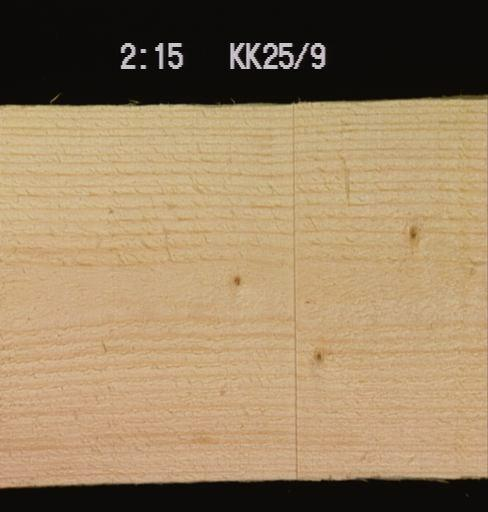small_knot: (399, 219, 430, 245), (308, 343, 333, 368), (224, 270, 249, 290)
